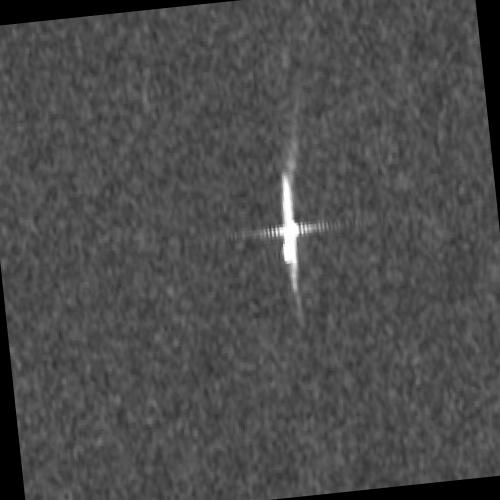ship: (280, 174, 298, 266)
